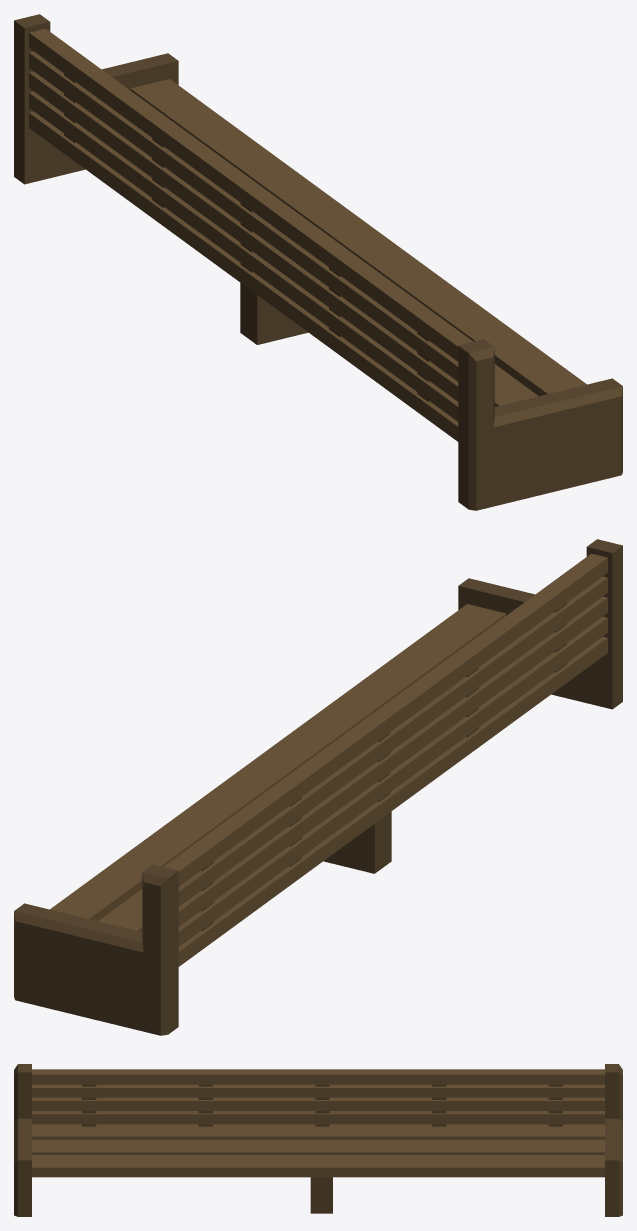
The model's file is Bench.fbx.
The picture shows the model from 3 angles, top to bottom: view 1: azimuth 30°, elevation 25°; view 2: azimuth 150°, elevation 25°; view 3: azimuth 270°, elevation 25°; orthographic projection. The views are drawn at different scales.
Visible parts, largest first — view 1: Bench; view 2: Bench; view 3: Bench.
Boxes of the visible parts, bbox=[...] form: Bench: bbox=[14, 14, 622, 510]; Bench: bbox=[14, 539, 622, 1035]; Bench: bbox=[14, 1064, 622, 1216].
Bounding box in the file's own units: 56.91 × 55.14 × 295.
